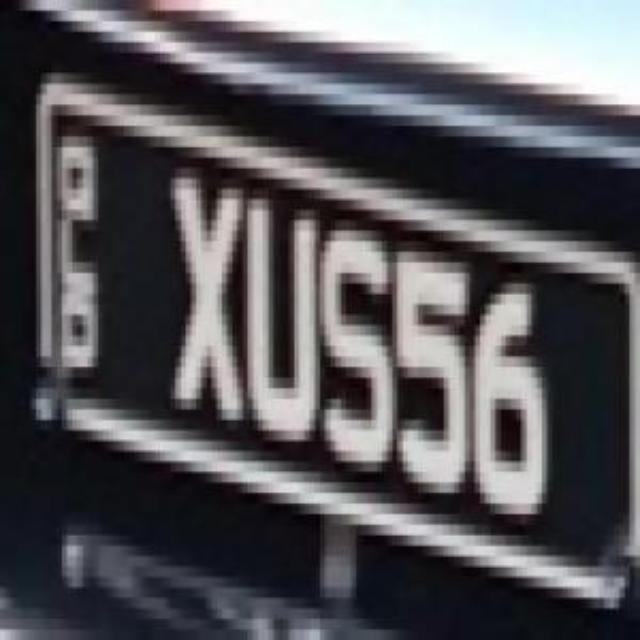License Plate: (18, 42, 640, 620)
